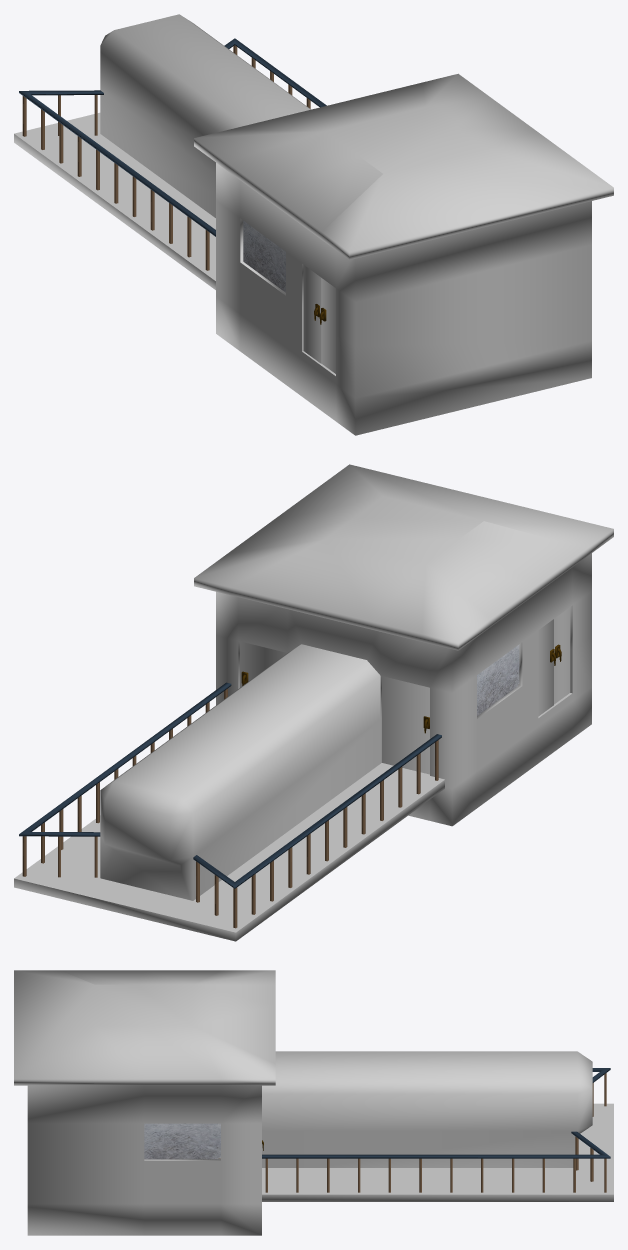
Rendered from Train.fbx.
3 views of the same model, one above another, from view 1: azimuth 30°, elevation 25°; view 2: azimuth 150°, elevation 25°; view 3: azimuth 270°, elevation 25° (orthographic). The views are drawn at different scales.
Visible parts, largest first — view 1: WN, Down, Per, P, Glas, Dor.1, Dor; view 2: WN, Down, P, Dor.2, Per, Glas, Dor, Dor.1, Dor.3, Vnut; view 3: WN, Down, Glas, Per, P.
Part boxes in pixels (x1,y1,x2,y2): WN: (14, 14, 613, 435); Down: (14, 112, 335, 375); Per: (19, 38, 326, 236); P: (22, 45, 310, 270); Glas: (243, 221, 285, 292); Dor.1: (303, 265, 321, 363); Dor: (321, 278, 335, 373); WN: (14, 464, 613, 941); Down: (14, 693, 571, 932); P: (22, 688, 438, 928); Dor.2: (382, 676, 429, 774); Per: (19, 682, 441, 888); Glas: (477, 644, 519, 715); Dor: (554, 607, 570, 704); Dor.1: (538, 619, 553, 716); Dor.3: (240, 641, 287, 687); Vnut: (238, 605, 572, 763); WN: (14, 970, 613, 1235); Down: (262, 1103, 613, 1194); Glas: (144, 1123, 220, 1159); Per: (262, 1068, 610, 1158); P: (265, 1073, 606, 1192).
Size of the model in its own units: 526 by 410 by 1228.
